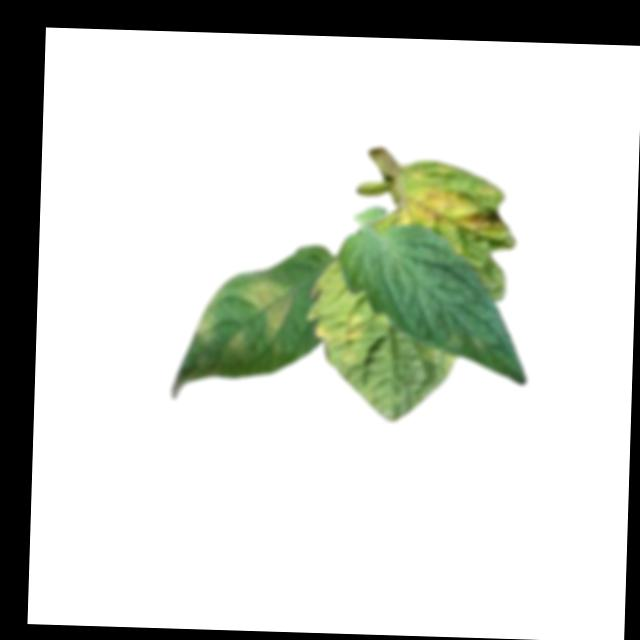Leaf_Mold: (367, 159, 516, 256), (238, 280, 294, 351), (309, 310, 368, 368)
